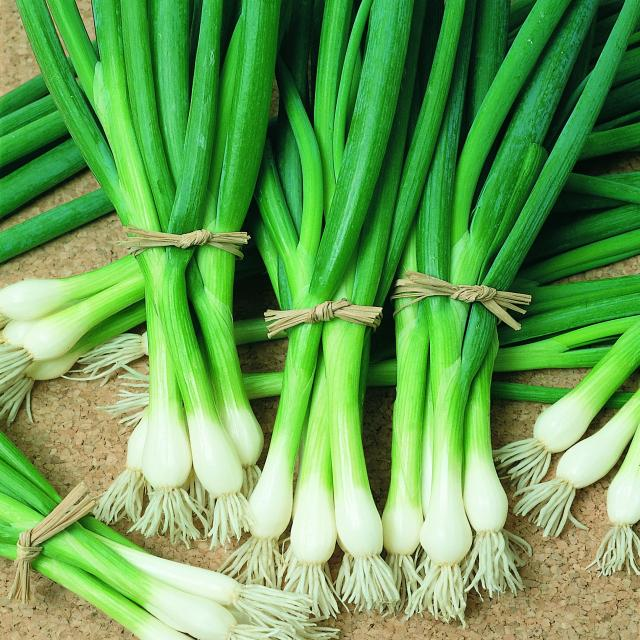Spring onion: (27, 0, 286, 550), (213, 0, 395, 621), (378, 0, 552, 610), (511, 289, 640, 575), (2, 252, 139, 414)
